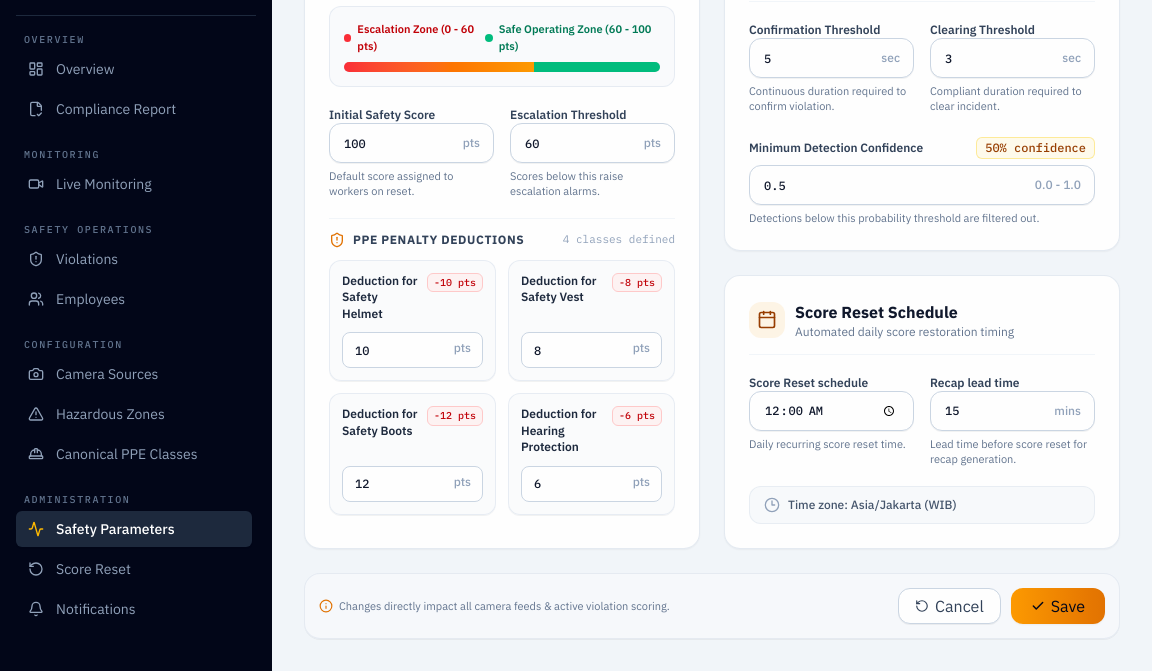
Test: Safety Parameters › presents a service save error in English
(page scrolled)
Expected: the number field labelled "Escalation Threshold" is shown, [510,123,675,163]
Click the button with aria-label "Save Safety Parameters" at [1058, 606], box [1011,588,1105,624]
(page scrolled)
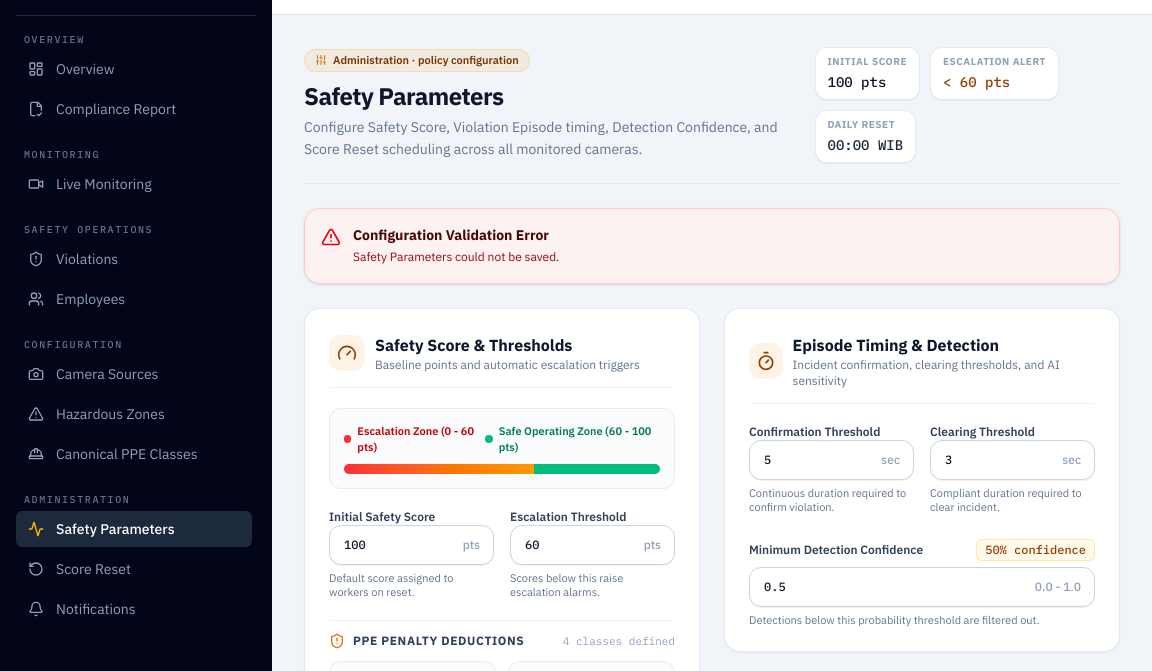
Expected: the message shows "Safety Parameters could not be saved.", [353,249,559,264]
